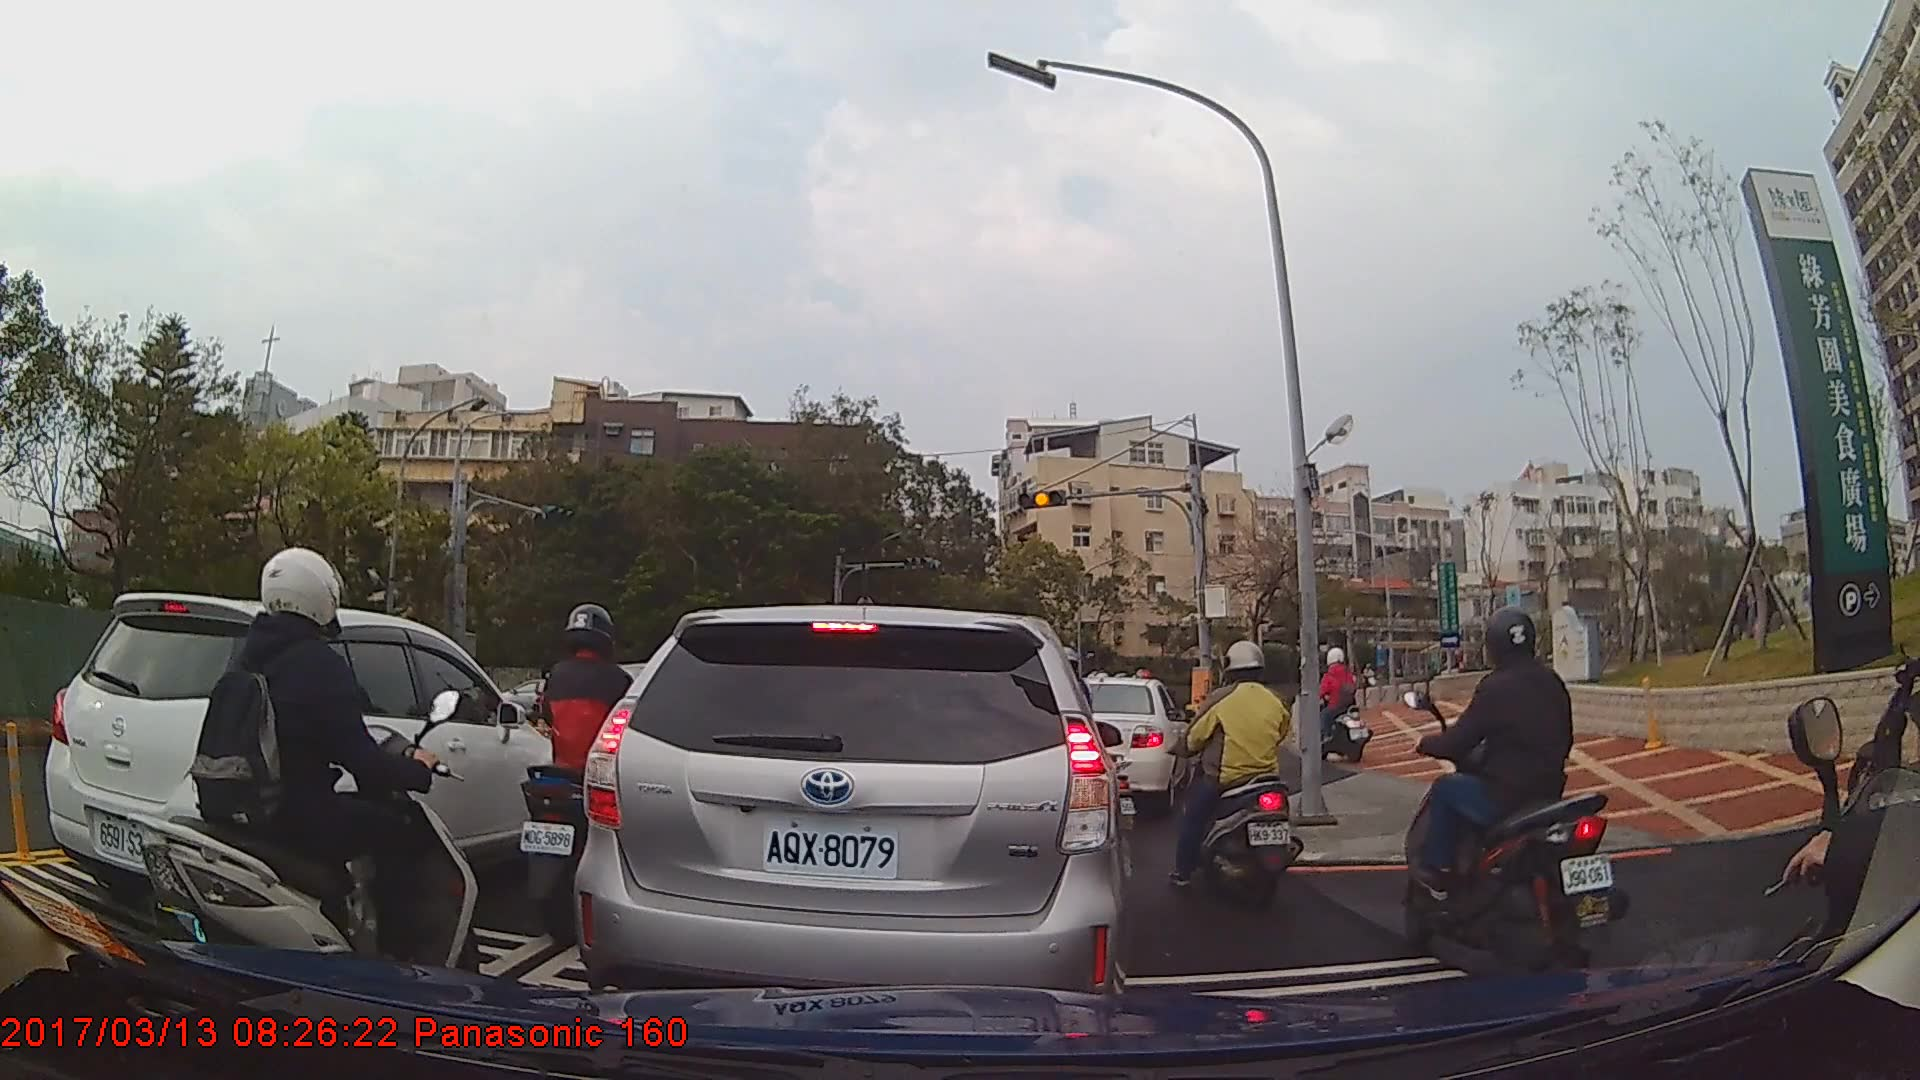pedestrian: (1744, 564, 1785, 641), (1737, 578, 1772, 642)
rider: (137, 544, 483, 1017), (1392, 604, 1622, 981), (515, 602, 660, 946), (1171, 638, 1304, 900), (1301, 642, 1371, 760)
vehicle: (570, 603, 1132, 1028), (42, 591, 575, 925), (1067, 673, 1194, 811)
